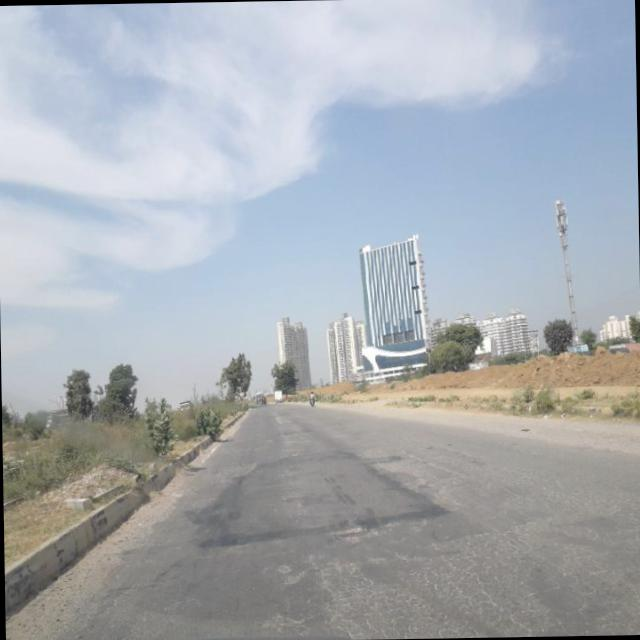crack: (254, 437, 640, 638)
